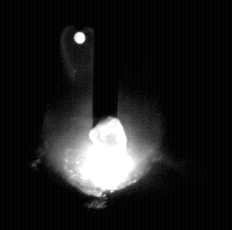arame: (93, 0, 118, 128)
poca: (42, 0, 164, 230)
